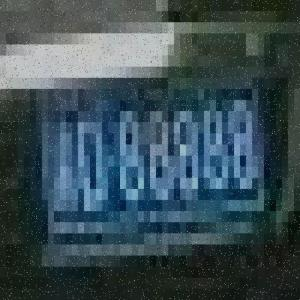Plate: (28, 65, 274, 254)
